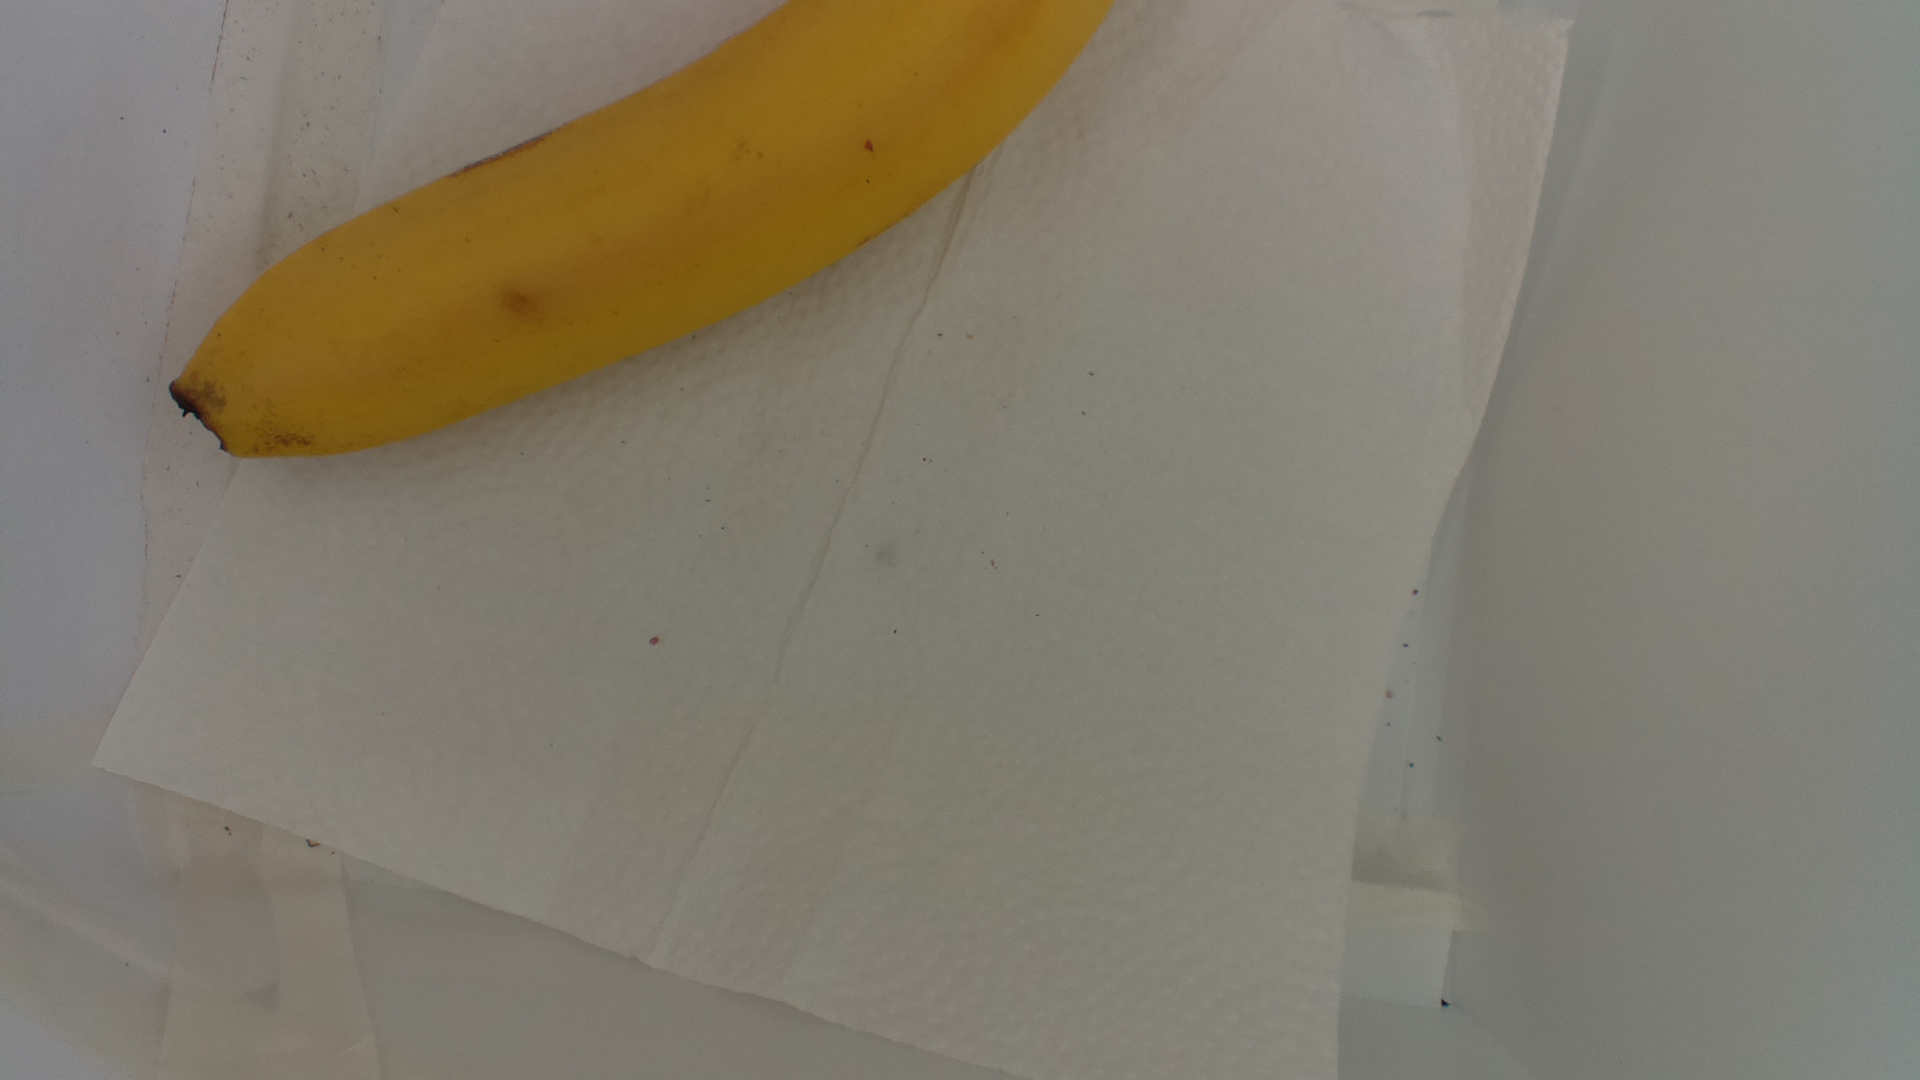fruit: (169, 1, 1106, 463)
